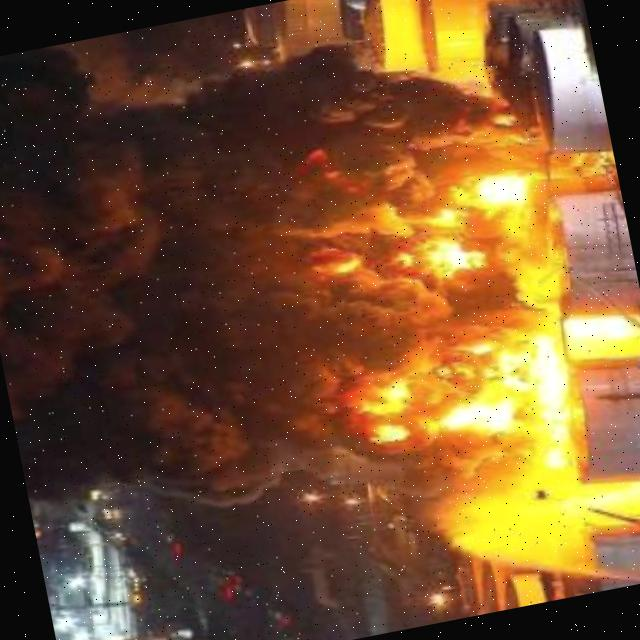fire: (432, 320, 580, 483), (537, 291, 640, 363), (548, 455, 640, 527), (400, 222, 491, 282), (466, 154, 530, 218), (365, 361, 430, 411), (357, 408, 419, 453)
